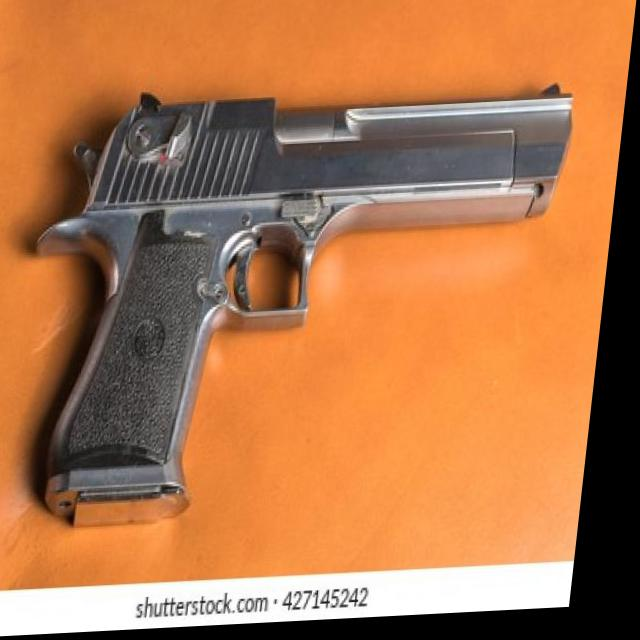handgun: (13, 83, 600, 541)
